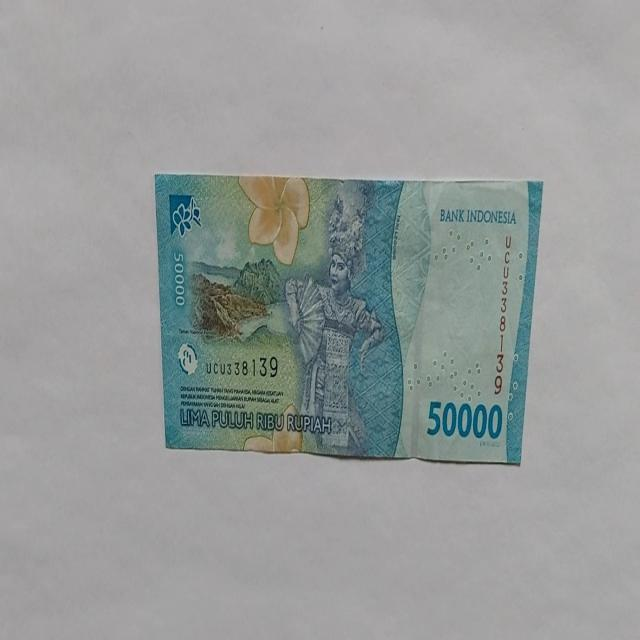lima puluh ribu rupiah: (154, 172, 544, 465), (425, 398, 503, 442)
